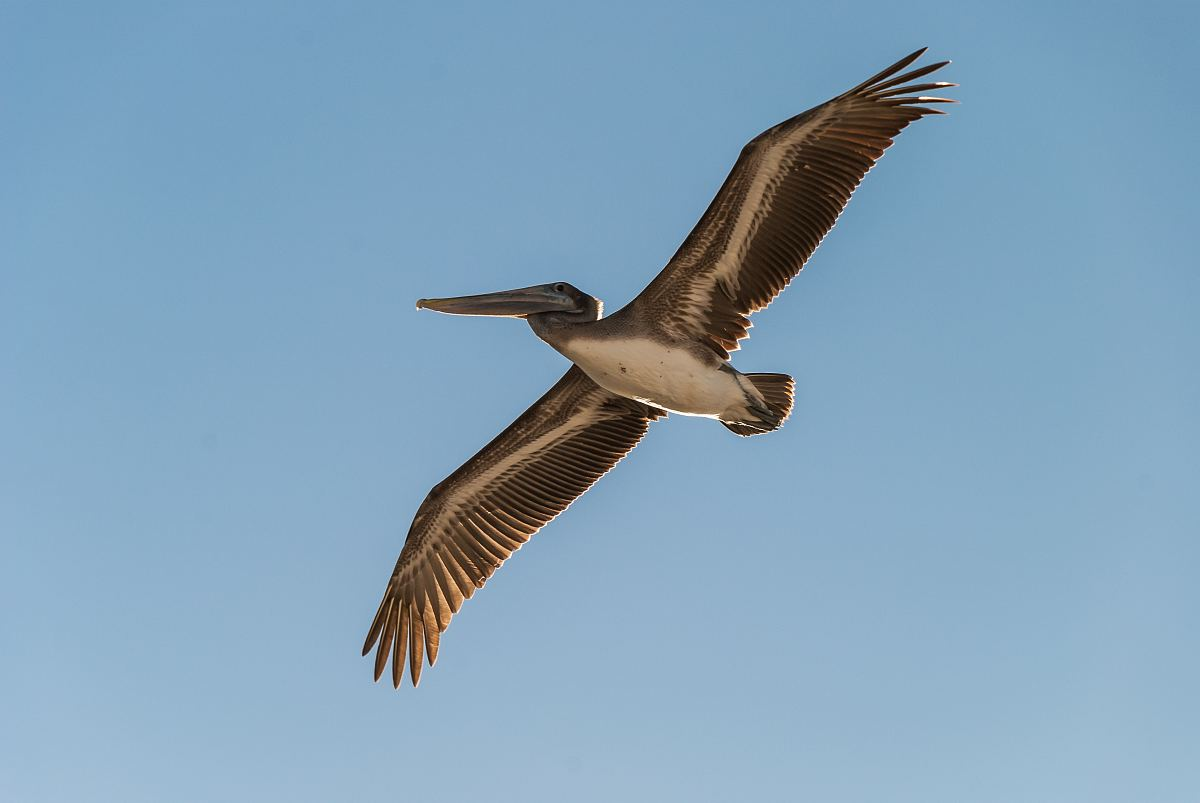bird: (363, 47, 961, 687)
